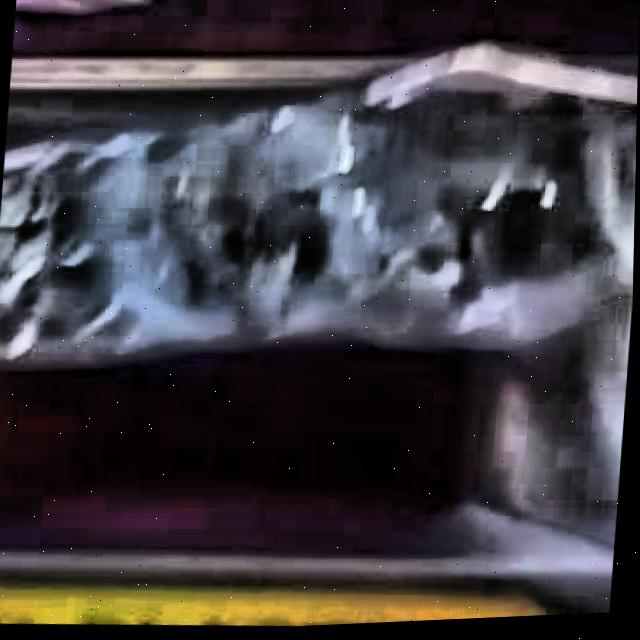plastic: (0, 48, 638, 368)
